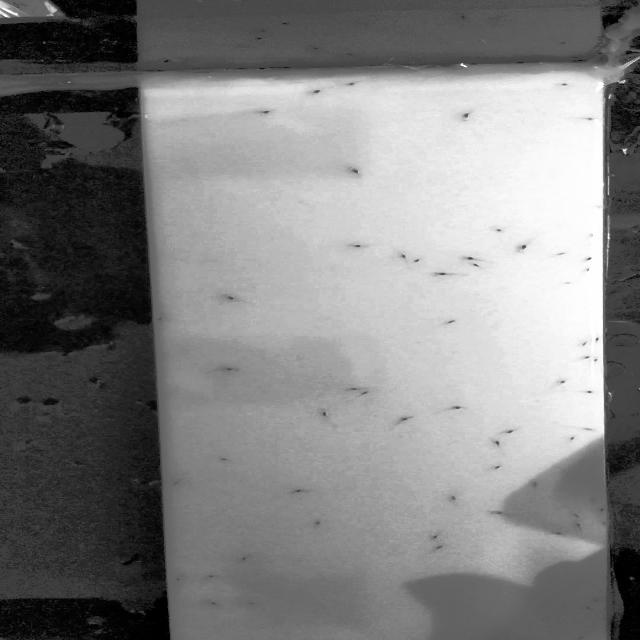shrimp: (568, 112, 604, 125), (339, 163, 368, 178), (231, 552, 256, 568), (356, 385, 378, 402), (392, 410, 414, 426), (211, 453, 236, 467), (241, 596, 266, 610), (281, 486, 315, 496), (219, 292, 247, 304), (219, 366, 247, 378), (428, 542, 456, 554), (342, 78, 365, 92), (571, 423, 597, 435), (166, 576, 197, 586), (148, 312, 170, 326), (568, 352, 596, 363), (575, 253, 600, 265), (257, 105, 278, 119), (306, 85, 328, 98), (439, 317, 462, 329), (312, 409, 335, 421), (203, 572, 226, 584), (444, 402, 468, 413), (443, 490, 463, 503), (490, 505, 510, 518), (572, 522, 592, 535), (346, 241, 369, 252), (545, 530, 568, 541), (426, 531, 447, 543), (166, 478, 190, 488), (568, 630, 592, 640), (434, 267, 452, 280), (469, 260, 490, 271), (554, 278, 582, 286), (584, 386, 600, 400), (559, 434, 581, 444), (587, 492, 602, 506), (493, 224, 509, 237), (202, 600, 225, 609), (515, 240, 532, 252), (550, 376, 568, 387), (502, 426, 520, 437), (524, 481, 546, 490), (306, 519, 329, 527), (567, 507, 581, 520), (490, 437, 506, 448), (580, 603, 596, 614), (560, 80, 574, 92), (393, 250, 411, 259), (546, 250, 562, 260), (493, 462, 506, 473), (458, 111, 473, 120), (598, 507, 609, 518), (589, 357, 599, 369), (345, 384, 360, 392), (411, 256, 422, 266), (576, 338, 586, 348), (465, 255, 476, 263), (583, 267, 595, 274)
